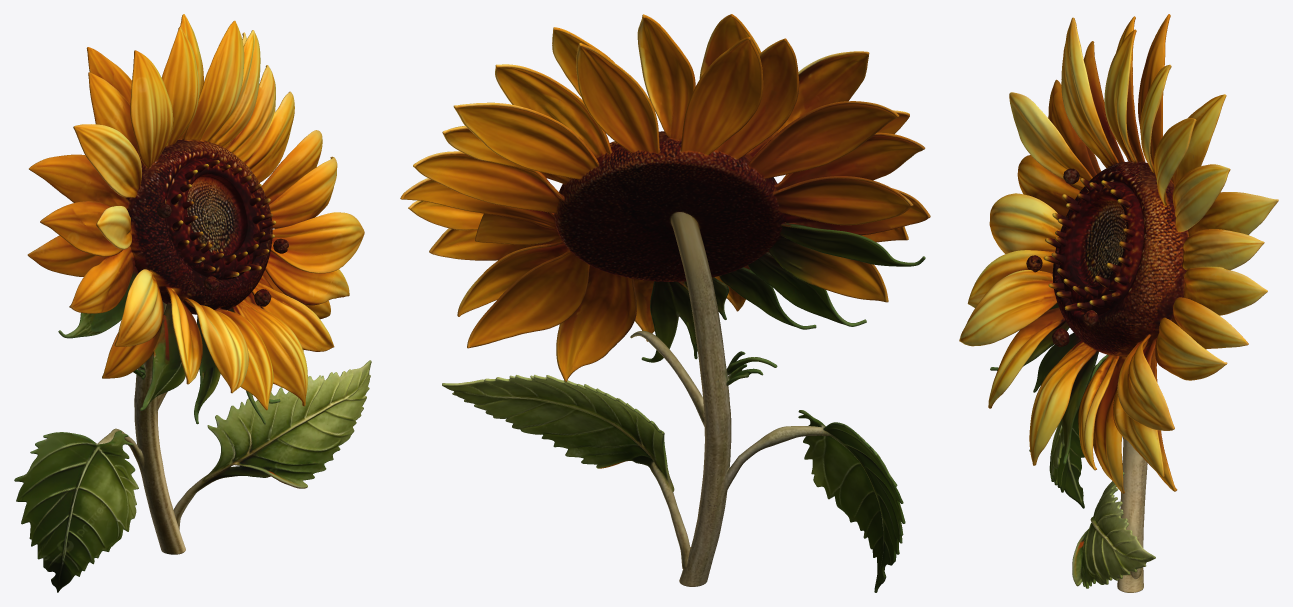
3 renders of one model, left to right at view 1: azimuth 30°, elevation 25°; view 2: azimuth 150°, elevation 25°; view 3: azimuth 270°, elevation 25°, orthographic. The views are drawn at different scales.
Visible parts, largest first — view 1: tripo_node_23047e7c-adf1-4535-b55f-1f328c3f2077; view 2: tripo_node_23047e7c-adf1-4535-b55f-1f328c3f2077; view 3: tripo_node_23047e7c-adf1-4535-b55f-1f328c3f2077.
Boxes of the visible parts, <box> form: tripo_node_23047e7c-adf1-4535-b55f-1f328c3f2077: <box>14,14,371,592</box>; tripo_node_23047e7c-adf1-4535-b55f-1f328c3f2077: <box>400,14,930,592</box>; tripo_node_23047e7c-adf1-4535-b55f-1f328c3f2077: <box>959,14,1278,592</box>.
Size of the model in its own units: 0.7878 by 1 by 0.5368.
1 material, 1 textured.
